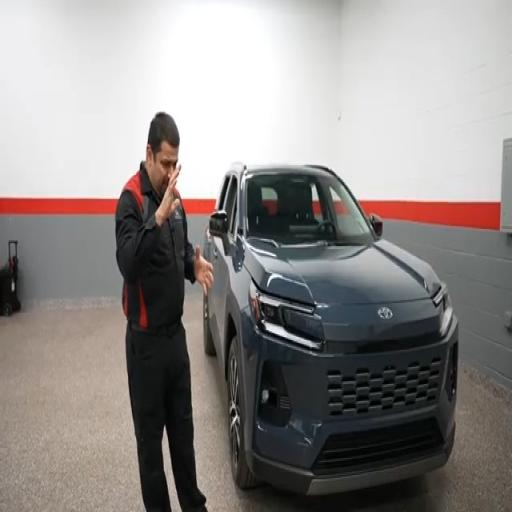bumper: (243, 318, 458, 494), (251, 424, 455, 496)
door: (214, 238, 231, 339), (207, 232, 221, 348)
emblem: (378, 308, 392, 319)
fog_light: (262, 389, 269, 403)
grille: (312, 419, 443, 475), (328, 357, 441, 416)
headlight: (249, 282, 323, 351), (433, 284, 453, 337)
hood: (244, 241, 439, 305)
side_mirror: (209, 211, 231, 254), (209, 211, 227, 237), (369, 214, 383, 237)
tire: (228, 336, 258, 490)
wheel: (204, 295, 215, 355), (4, 303, 11, 317)
window: (224, 175, 238, 237), (216, 175, 230, 210)
windshield: (245, 171, 373, 244)
